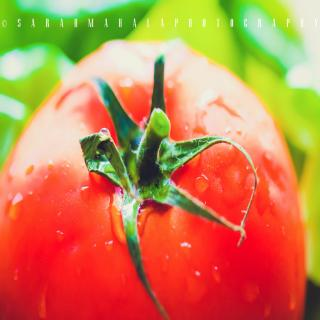tomato: (0, 35, 310, 320)
